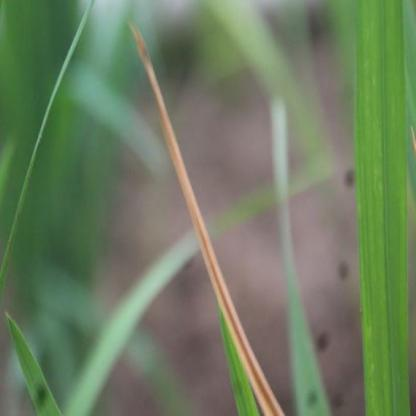Tungro: (133, 26, 288, 414)
